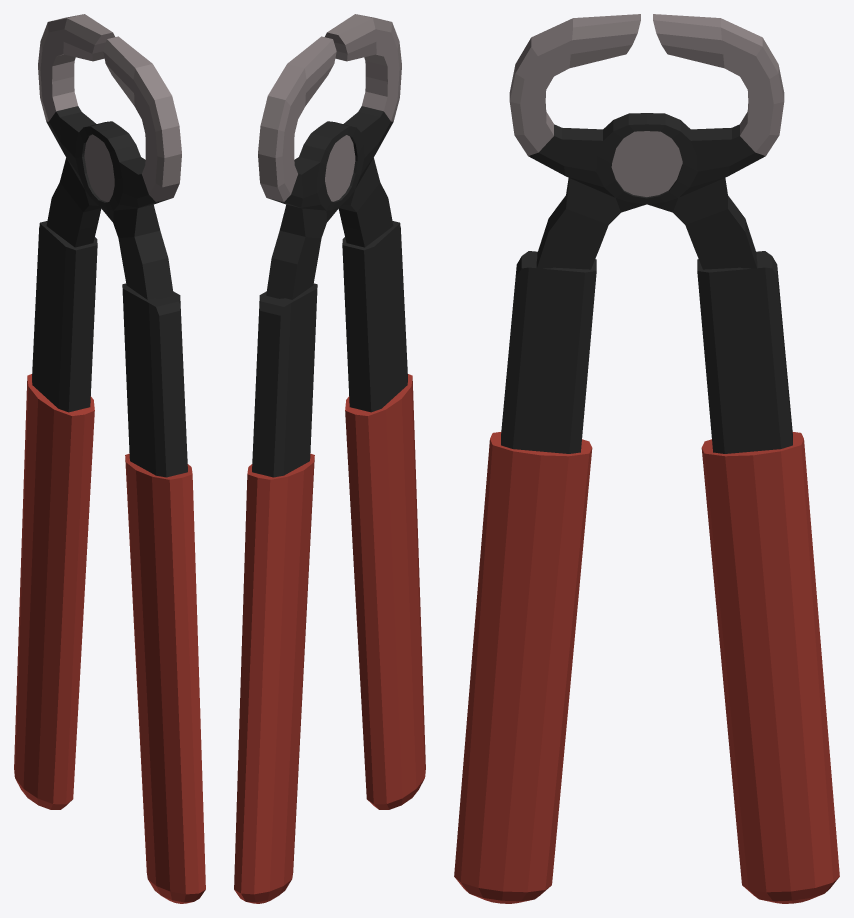
File: G3_Prop_Alicate_2.fbx
3 renders of one model, left to right at view 1: azimuth 30°, elevation 25°; view 2: azimuth 150°, elevation 25°; view 3: azimuth 270°, elevation 25°, orthographic. The views are drawn at different scales.
Visible parts, largest first — view 1: Cylinder.013; view 2: Cylinder.013; view 3: Cylinder.013.
Boxes of the visible parts, left/top/right/bottom form: Cylinder.013: left=14, top=14, right=205, bottom=903; Cylinder.013: left=234, top=14, right=425, bottom=903; Cylinder.013: left=454, top=14, right=839, bottom=903.
Bounding box in the file's own units: 41.73 × 709 × 280.
